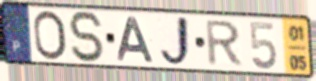5: (248, 20, 279, 71)
A: (116, 16, 157, 65)
J: (158, 14, 194, 68)
O: (32, 9, 70, 62)
R: (205, 19, 245, 68)
S: (66, 9, 107, 65)
